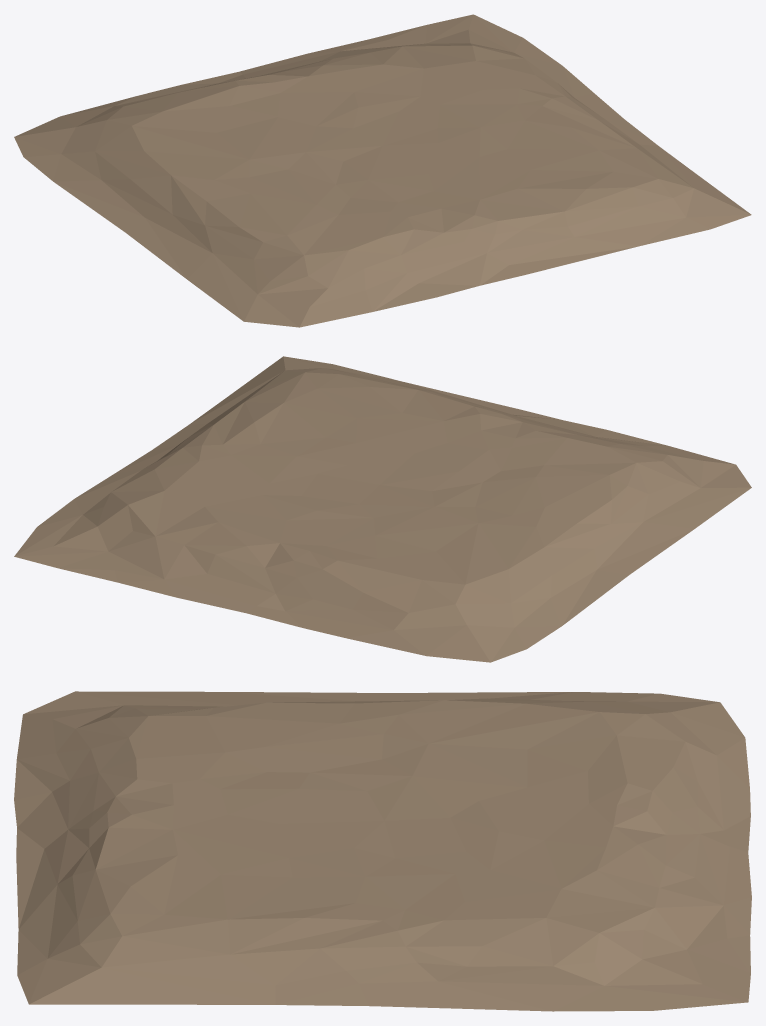
Rendered from SM_Env_Ground_Hill_Flat_Square_01.fbx.
The picture shows the model from 3 angles, top to bottom: view 1: azimuth 30°, elevation 25°; view 2: azimuth 150°, elevation 25°; view 3: azimuth 270°, elevation 25°; orthographic projection. The views are drawn at different scales.
Visible parts, largest first — view 1: SM_Env_Ground_Hill_Flat_Square_01; view 2: SM_Env_Ground_Hill_Flat_Square_01; view 3: SM_Env_Ground_Hill_Flat_Square_01.
Part boxes in pixels (x1,y1,x2,y2): SM_Env_Ground_Hill_Flat_Square_01: (14,14,751,327); SM_Env_Ground_Hill_Flat_Square_01: (14,356,751,662); SM_Env_Ground_Hill_Flat_Square_01: (14,691,751,1011).
Bounding box in the file's own units: 1813 × 106 × 1767.
